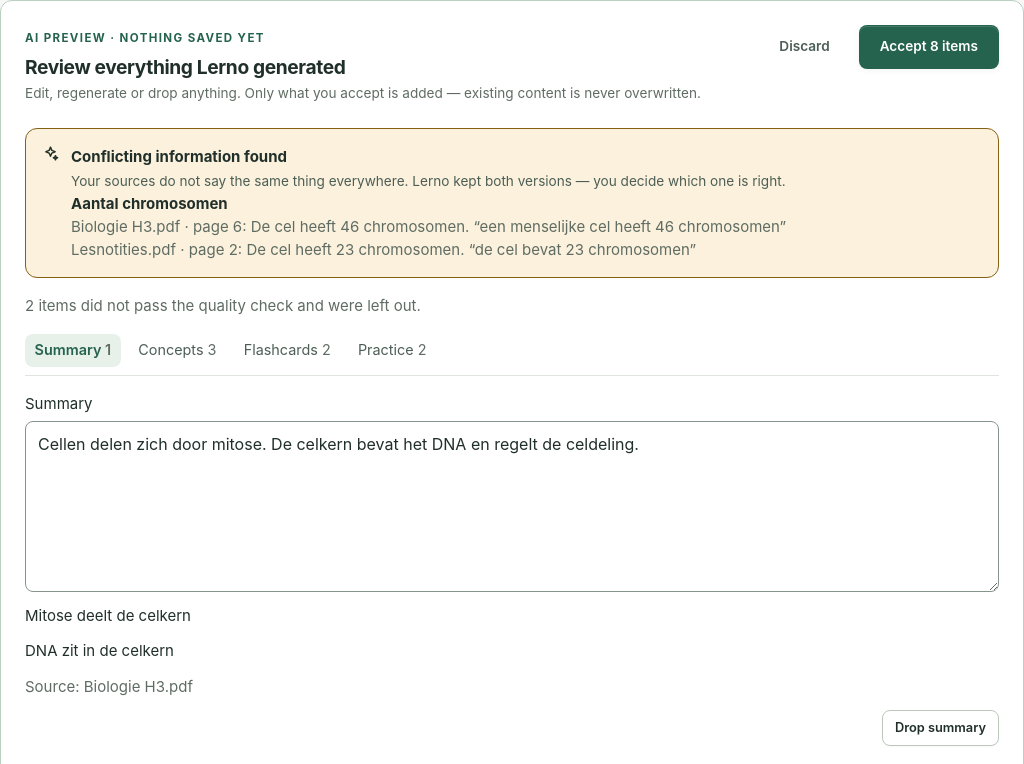
Test case: ContentReview › keeps the original item and explains the failure when regeneration fails
Click the tab "Practice 2". click: (392,350)
box: [348,334,436,367]
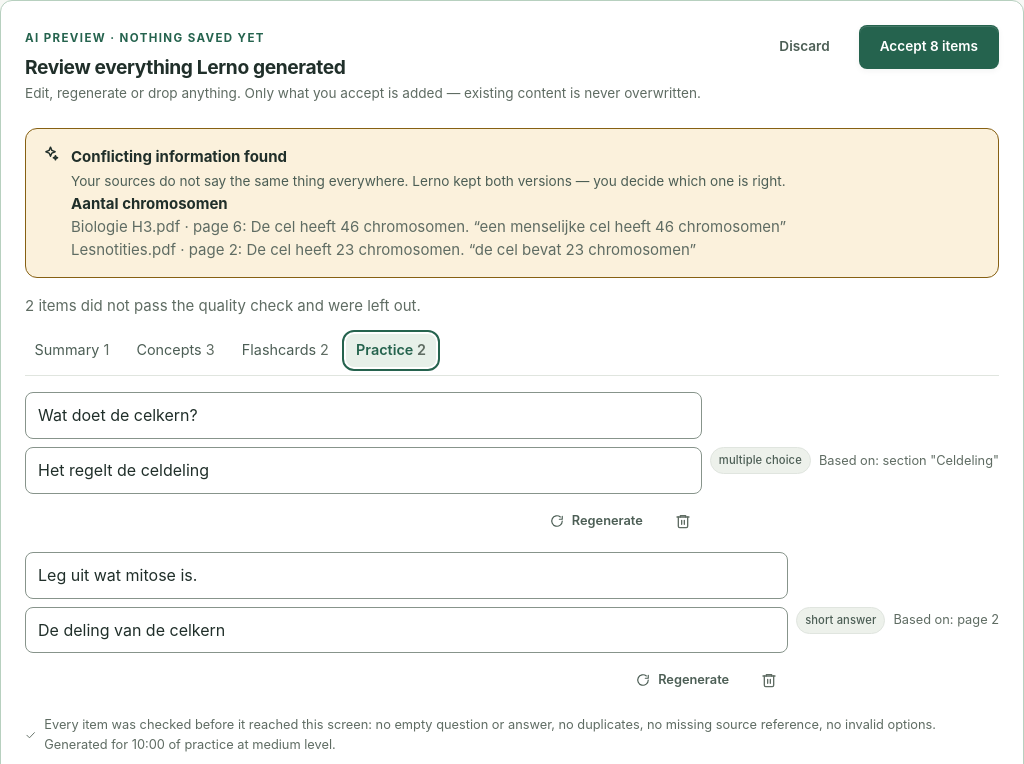
Click the button with aria-label "Regenerate question 1". click: (596,521)
box: [537,503,656,539]
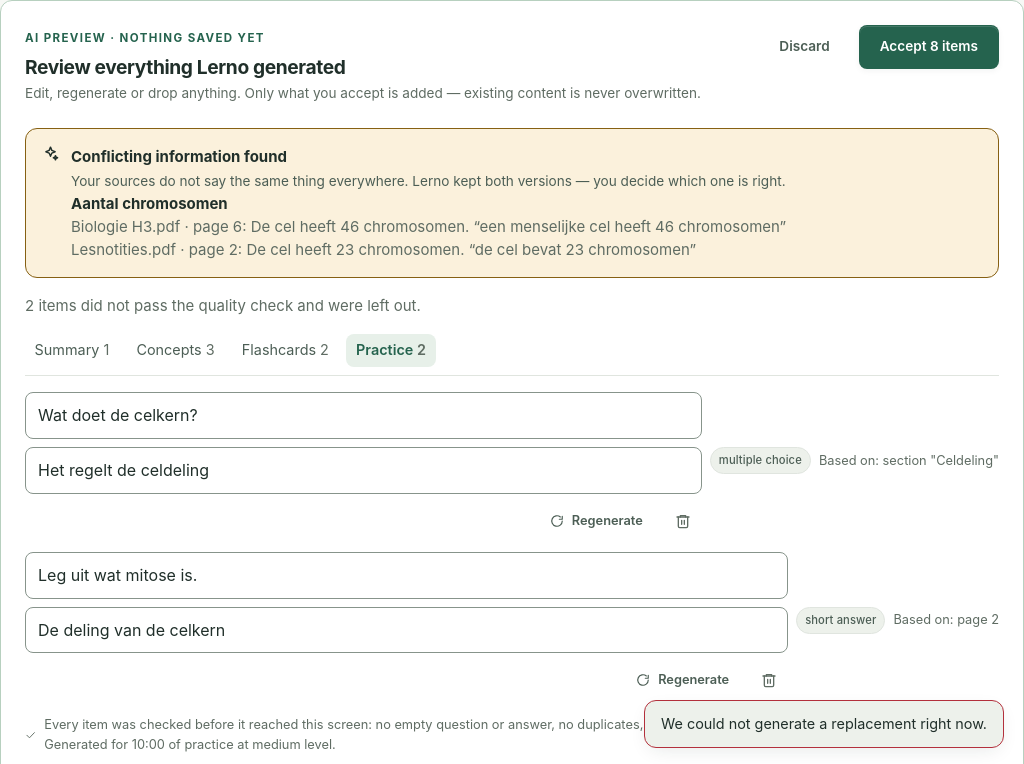
Check: the field named "Question 1 prompt" holds "Wat doet de celkern?", box [25,392,702,439]
Check: the text "We could not generate a replacement right now." is shown, box [644,700,1004,748]
